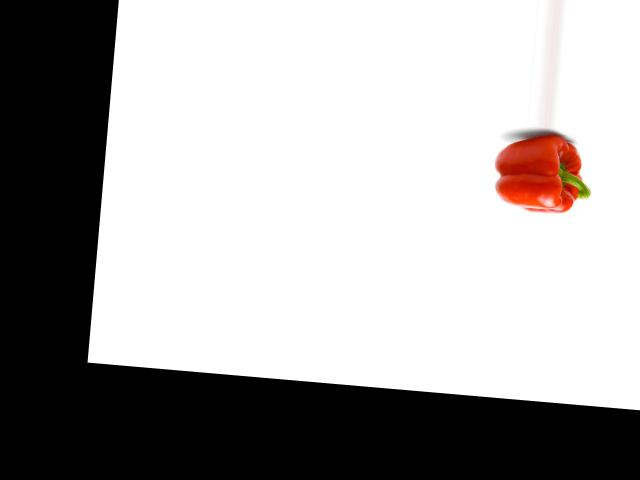bell_pepper: (483, 130, 600, 216)
